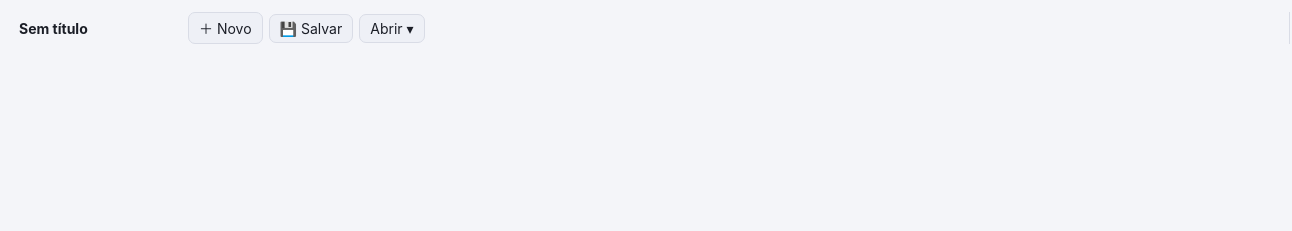
Test case: FileMenu › falha ao salvar mostra alerta e não mostra Salvo
Click the button titled "Salvar (Ctrl+S)".
click(311, 28)  # box [269,14,353,42]
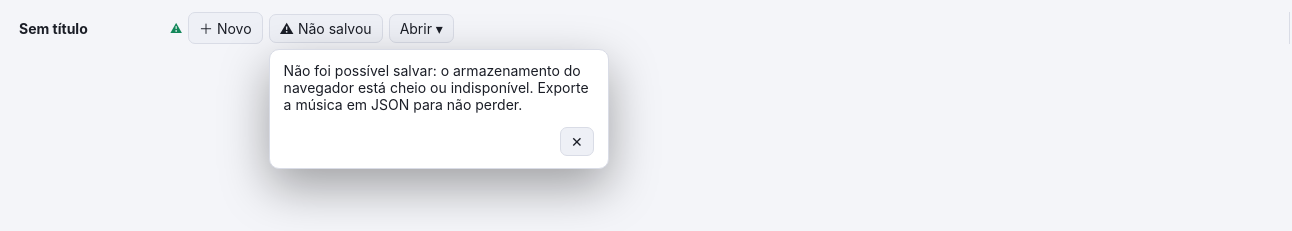
Now the message shows "Não foi possível salvar", box [284,62,589,112]
Now the button "⚠ Não salvou" is shown, box [269,14,383,42]
